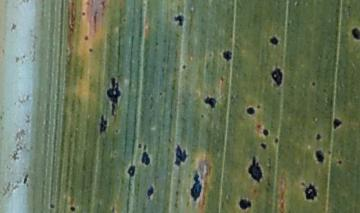tarspot: (106, 78, 122, 115), (247, 155, 264, 183), (190, 172, 202, 204), (302, 182, 318, 203), (174, 145, 187, 165), (271, 66, 283, 87), (204, 95, 217, 109), (173, 12, 185, 27), (239, 198, 252, 211), (99, 115, 108, 133), (146, 184, 155, 201), (222, 48, 233, 61), (126, 164, 136, 178), (315, 149, 325, 163), (350, 27, 360, 41), (141, 151, 150, 166), (332, 118, 343, 129), (269, 36, 279, 45), (246, 106, 255, 115), (47, 202, 55, 210), (262, 128, 269, 137), (315, 133, 321, 142), (68, 205, 75, 212), (337, 158, 343, 166), (87, 47, 94, 53), (83, 35, 89, 42), (81, 10, 87, 17), (113, 128, 120, 134), (110, 207, 117, 213), (142, 143, 147, 151), (255, 122, 261, 128), (274, 138, 280, 144), (137, 143, 142, 150), (122, 17, 127, 24), (260, 143, 267, 148), (200, 113, 205, 119), (182, 64, 187, 70), (256, 103, 261, 109), (327, 149, 332, 155), (159, 90, 163, 97), (312, 81, 315, 87)
